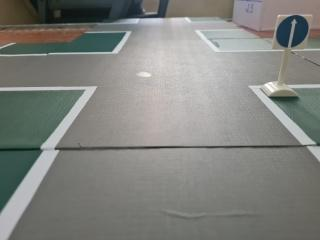straight: (274, 13, 314, 53)
